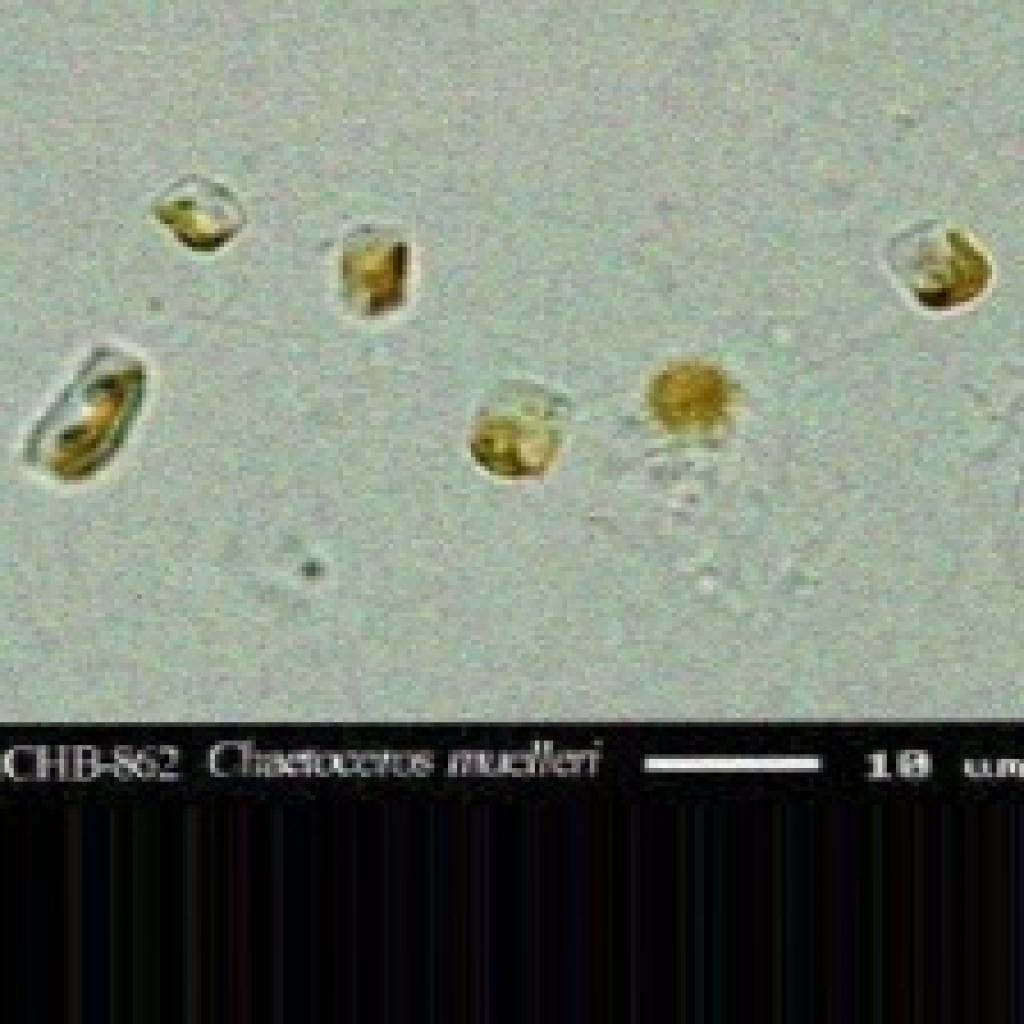Microalgae: (20, 296, 200, 524), (836, 193, 1022, 344), (320, 177, 469, 358), (137, 140, 301, 288), (454, 364, 600, 502), (615, 342, 781, 463)
